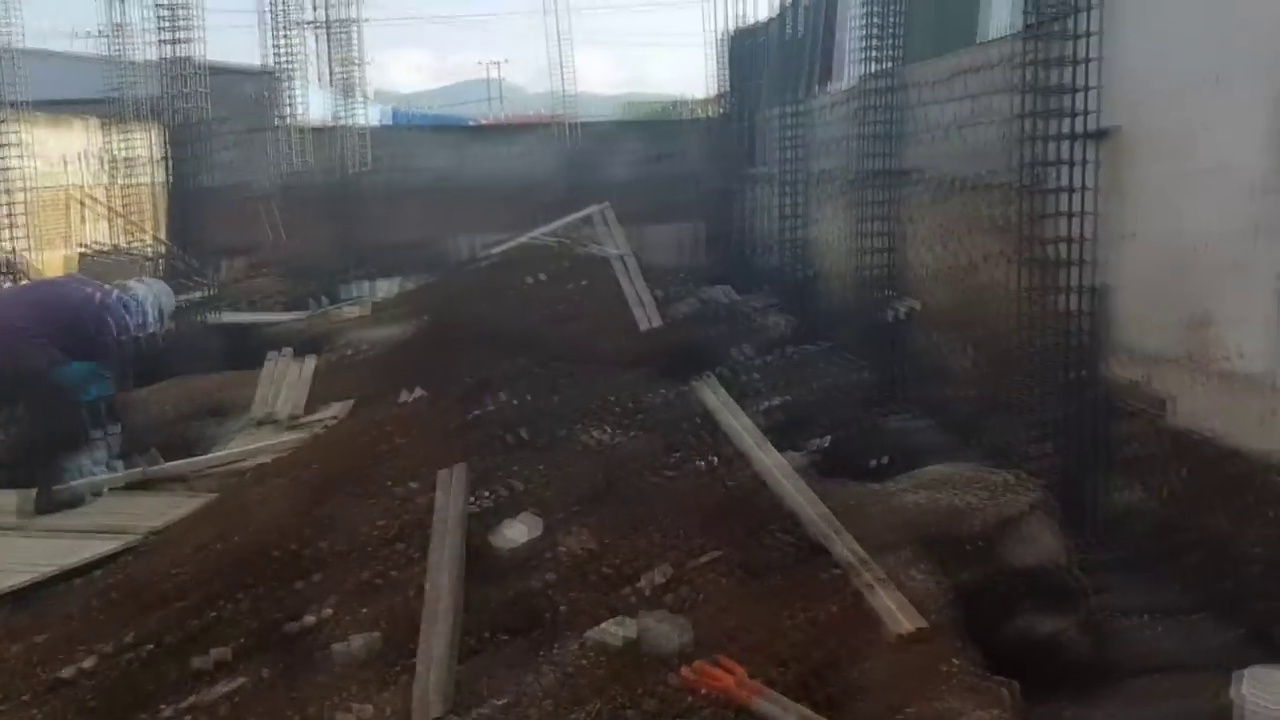helmet: (136, 273, 176, 338)
helmet-on: (120, 267, 175, 348)
person: (0, 267, 172, 516)
